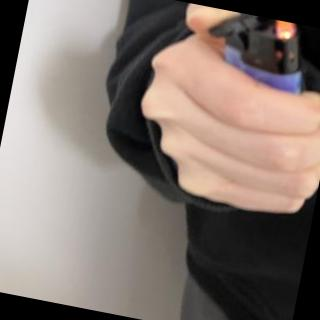fire: (268, 18, 298, 41)
